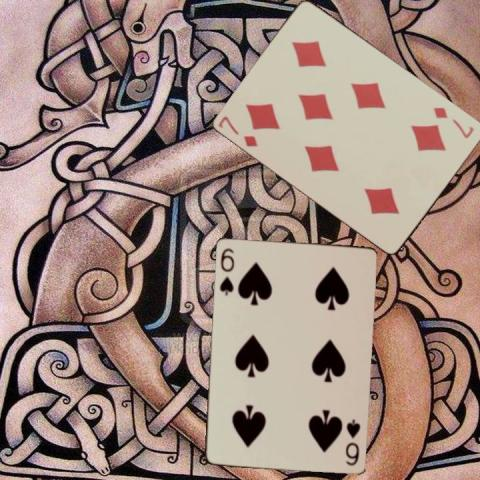6s: (342, 416, 361, 467), (217, 245, 235, 296)
7d: (430, 104, 476, 140), (215, 112, 260, 148)
